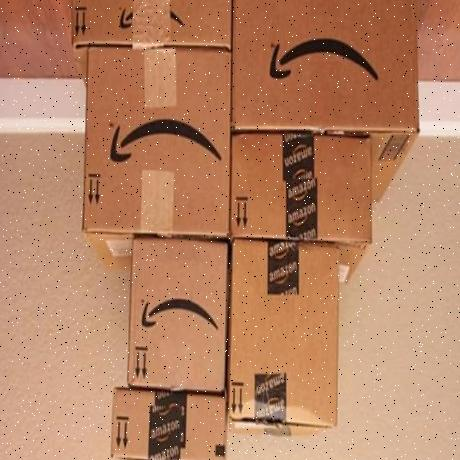Amazon: (233, 0, 419, 157), (88, 43, 230, 244), (231, 234, 340, 435), (228, 135, 369, 282), (127, 237, 224, 392), (108, 386, 228, 460), (68, 0, 229, 50)
